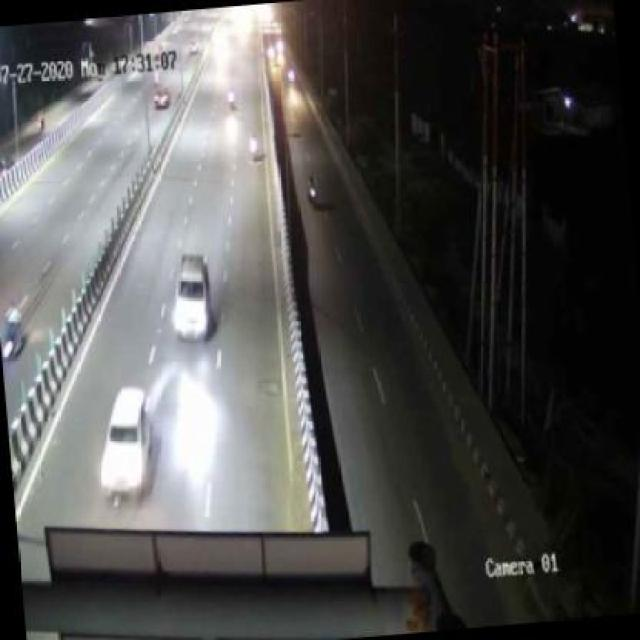car: (92, 375, 165, 500), (160, 248, 218, 346)
